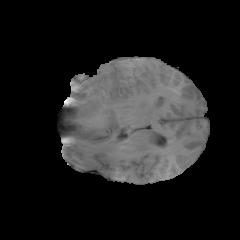glioma: (72, 65, 120, 132)
